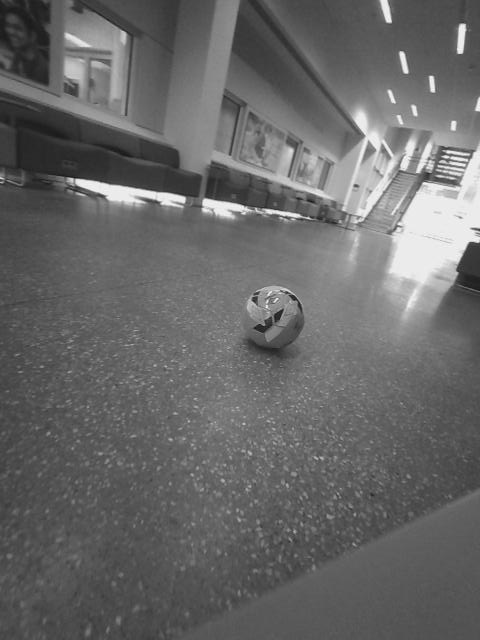ball: (309, 287, 369, 346)
